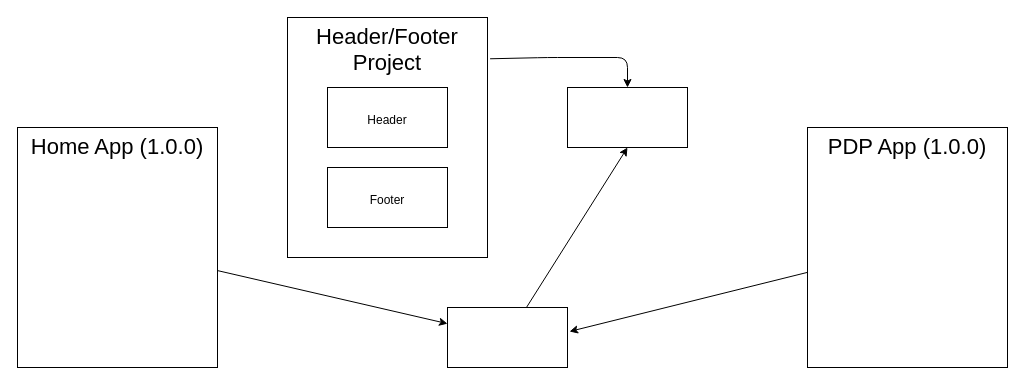
The diagram is 1025 pixels wide and 385 high, and some of its shapes have lost their labels. Here are the shapes that lost their labels. From the top down, the centre of each, then its label:
[627,117]: S3 Artifacts
[507,337]: Shim Library
